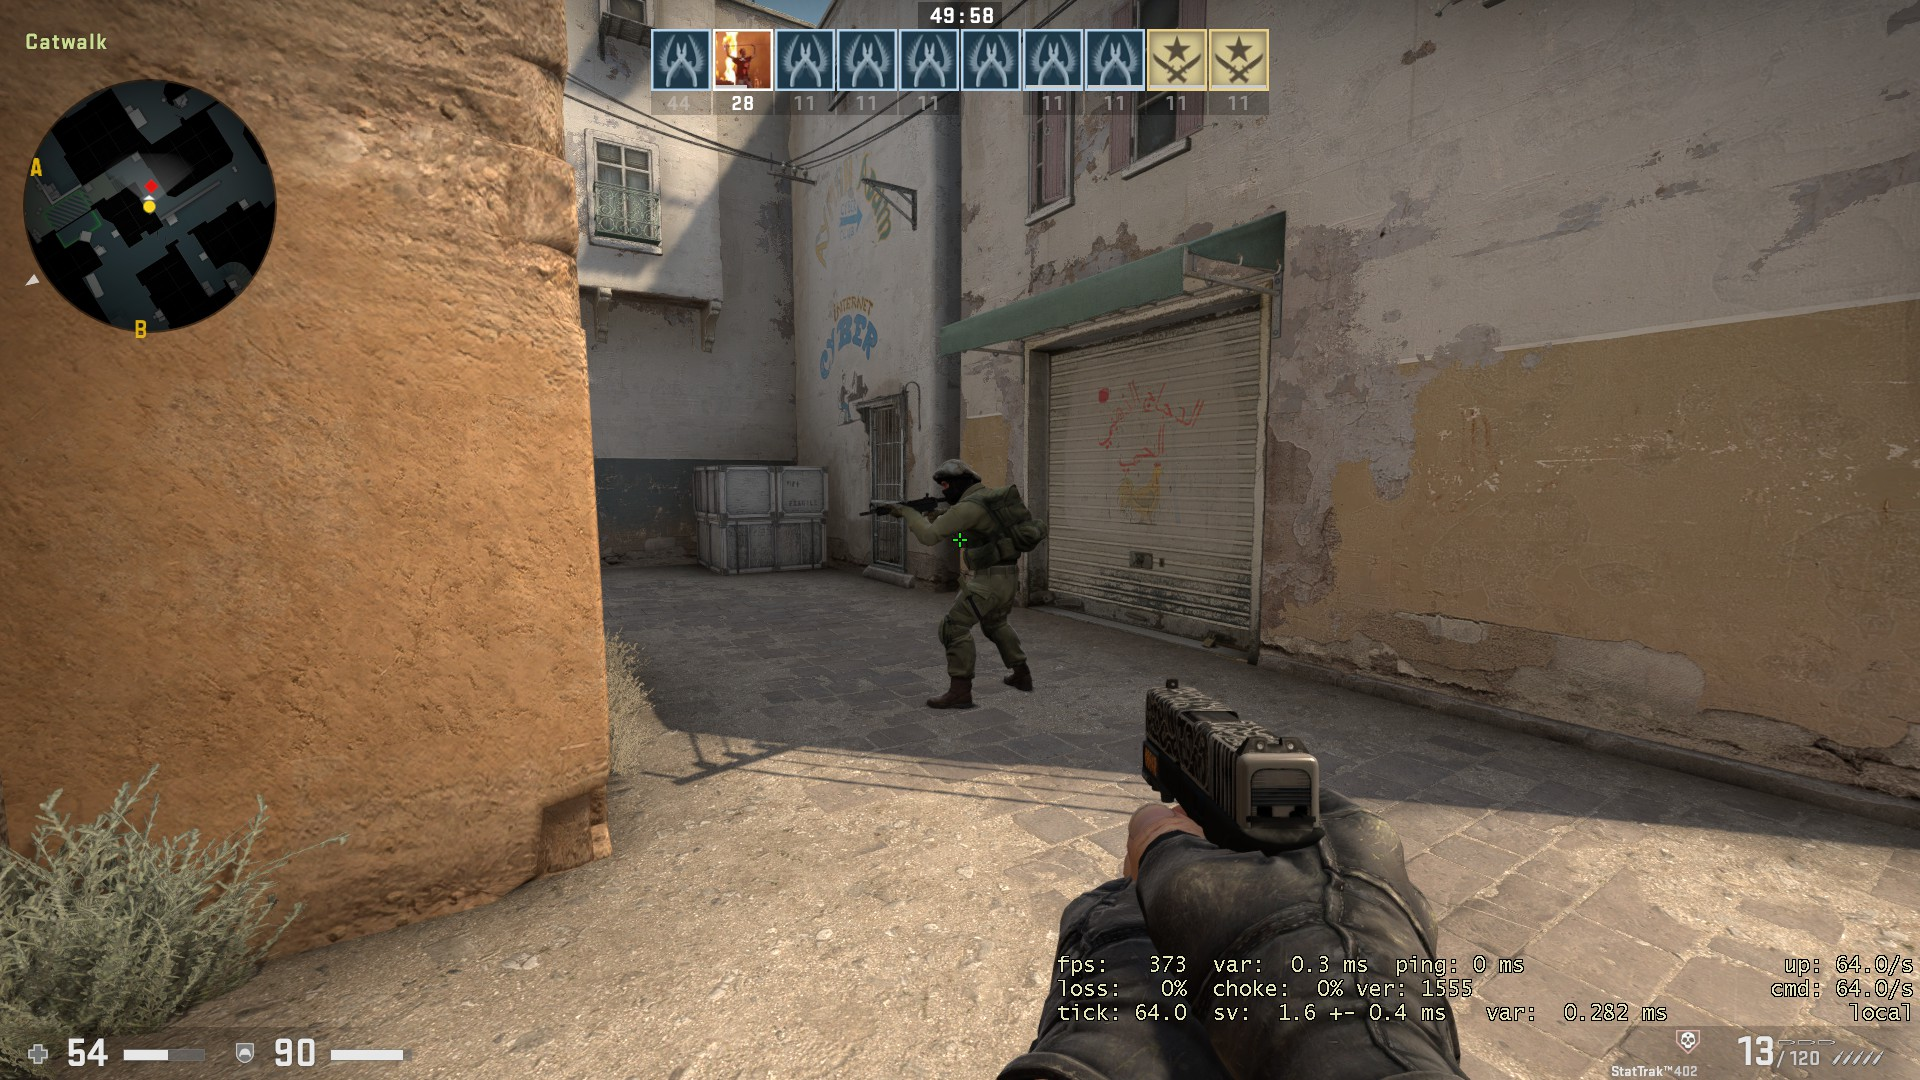player: (851, 452, 1050, 715)
